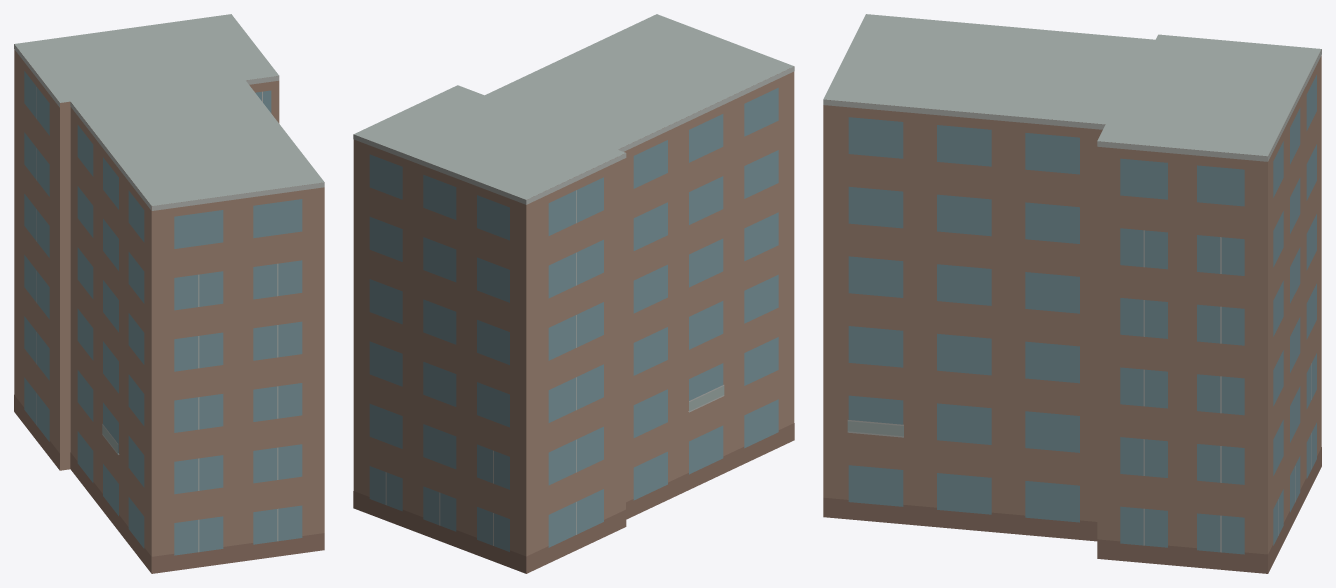
File: survey-upis-32654904.glb
The picture shows the model from 3 angles, left to right: view 1: azimuth 30°, elevation 25°; view 2: azimuth 150°, elevation 25°; view 3: azimuth 270°, elevation 25°; orthographic projection. The views are drawn at different scales.
Visible parts, largest first — view 1: survey-upis-32654904.tmp; view 2: survey-upis-32654904.tmp; view 3: survey-upis-32654904.tmp.
Boxes of the visible parts, left/top/right/bottom form: survey-upis-32654904.tmp: left=14, top=14, right=324, bottom=573; survey-upis-32654904.tmp: left=353, top=14, right=794, bottom=573; survey-upis-32654904.tmp: left=823, top=14, right=1321, bottom=573.
Size of the model in its own units: 13.3 by 18.2 by 19.7.
